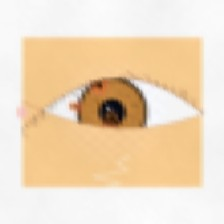foreign_body_visible: (64, 98, 84, 114)
